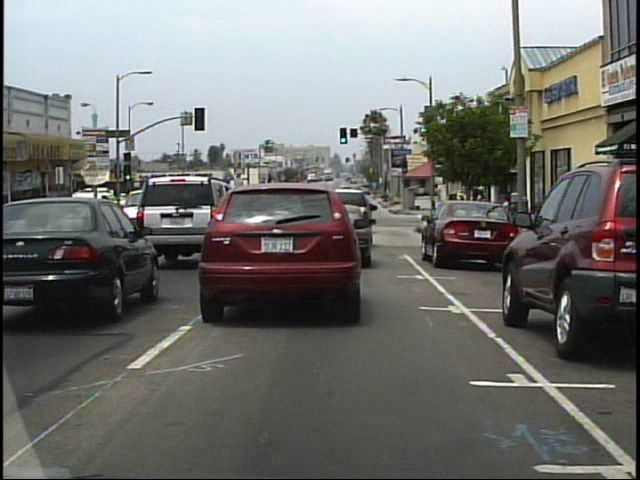person: (473, 191, 488, 230), (466, 193, 479, 236), (454, 193, 466, 236)
